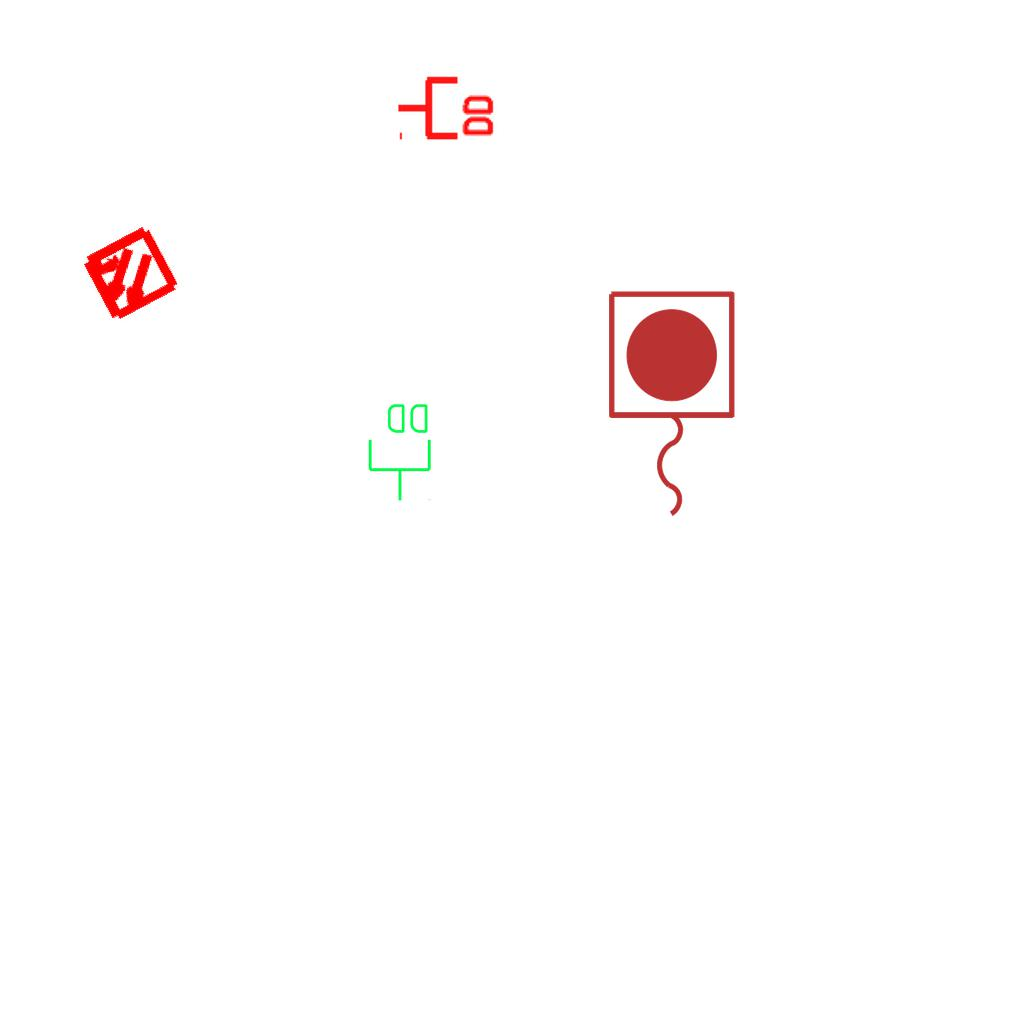Datenanschluss_zweifach: (395, 72, 498, 141), (366, 400, 435, 503)
OT_Multisensormelder_(Kombination_RMO_WMD): (52, 198, 205, 351)
Zugtaster: (598, 283, 742, 527)
